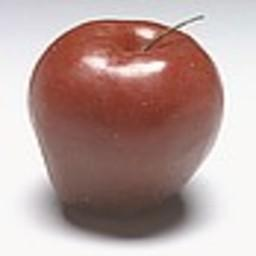apple: (26, 15, 224, 234)
